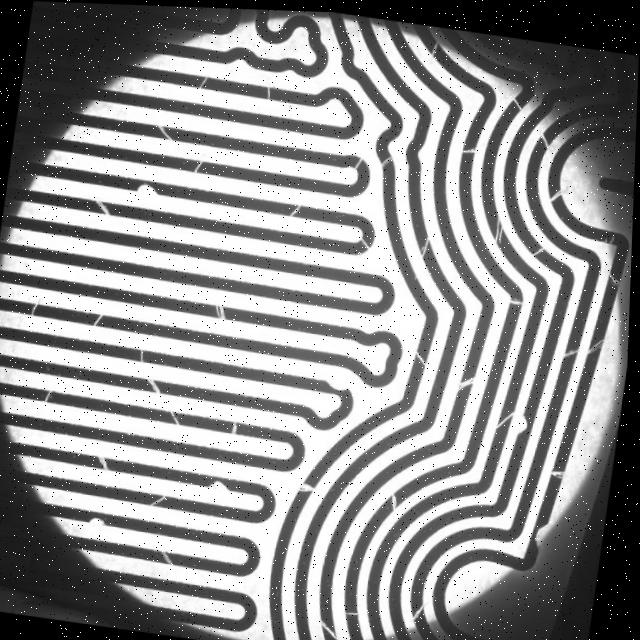break: (492, 396, 521, 434), (183, 68, 222, 95), (354, 219, 381, 255), (87, 193, 121, 219), (455, 363, 482, 393), (150, 118, 177, 146), (319, 611, 347, 638), (156, 544, 184, 570), (586, 328, 609, 359), (454, 135, 481, 161), (83, 306, 111, 331), (546, 456, 575, 480), (381, 484, 410, 508), (146, 487, 175, 511), (280, 197, 311, 219), (603, 263, 628, 290), (143, 373, 171, 397), (257, 79, 283, 104), (560, 336, 586, 361), (293, 474, 325, 494), (417, 228, 437, 258), (210, 297, 234, 321), (536, 122, 558, 148), (412, 340, 433, 367), (487, 213, 507, 241), (506, 88, 528, 113), (167, 403, 189, 428), (38, 383, 61, 406), (376, 148, 399, 170), (412, 595, 432, 620), (226, 414, 246, 439), (189, 152, 208, 178), (132, 342, 154, 364), (423, 35, 444, 57), (546, 179, 565, 203), (505, 288, 531, 305), (96, 452, 118, 471), (348, 148, 368, 168), (24, 299, 46, 317), (343, 600, 366, 617), (528, 239, 549, 257)
over-etching: (526, 510, 556, 550), (315, 372, 358, 399), (202, 468, 240, 495), (129, 171, 165, 198), (82, 504, 119, 530), (515, 405, 541, 438)
